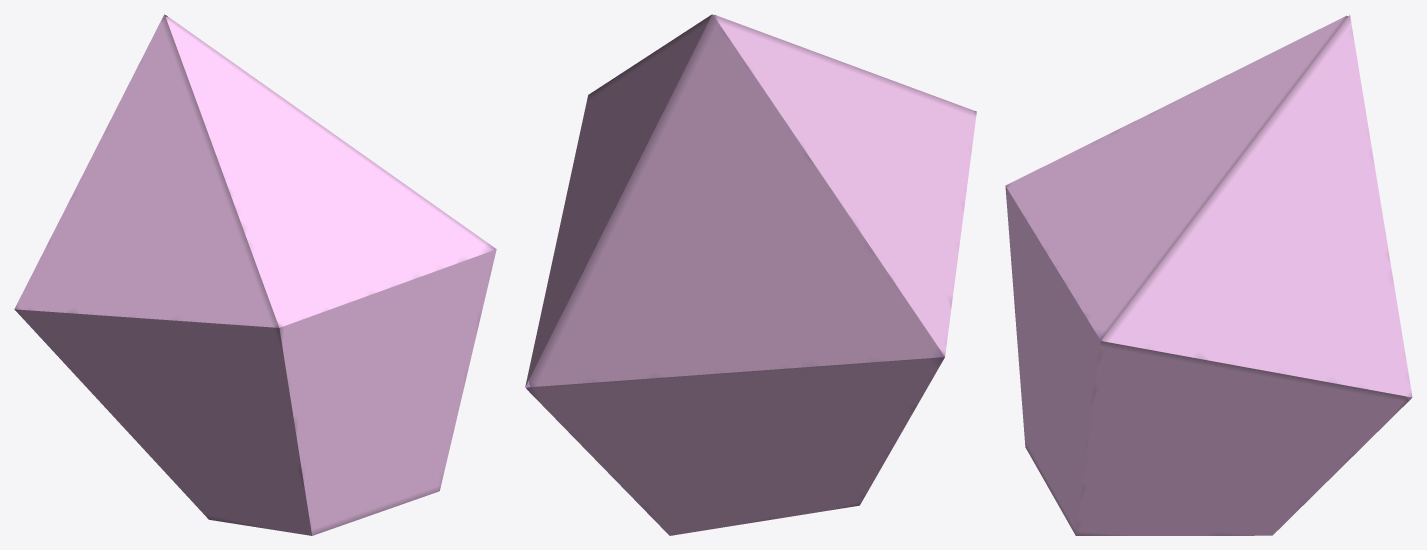
Rendered from cristal.fbx.
The picture shows the model from 3 angles, left to right: view 1: azimuth 30°, elevation 25°; view 2: azimuth 150°, elevation 25°; view 3: azimuth 270°, elevation 25°; orthographic projection. The views are drawn at different scales.
Parts seen in each view (by area): view 1: cuboid; view 2: cuboid; view 3: cuboid.
Part boxes in pixels (x1,y1,x2,y2): cuboid: [14, 14, 496, 535]; cuboid: [525, 14, 976, 535]; cuboid: [1005, 15, 1412, 535].
Size of the model in its own units: 92.49 by 105 by 80.16.
Materials: 1 (1 with a texture image).
